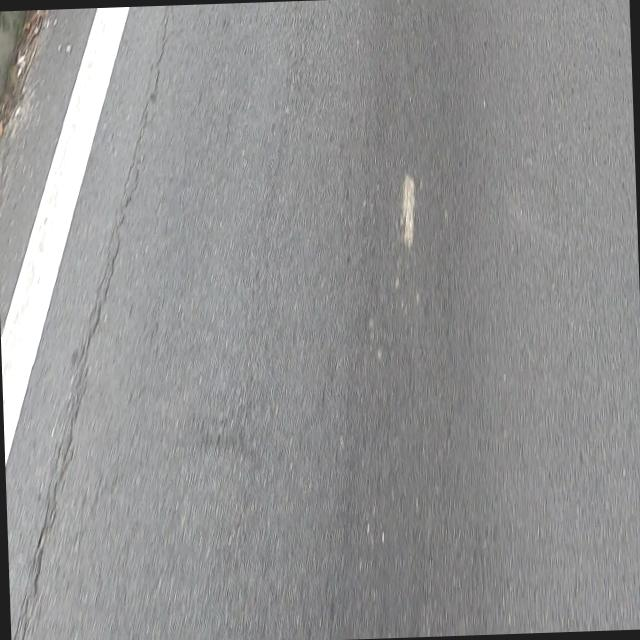Retak-Memanjang: (30, 8, 172, 603)
